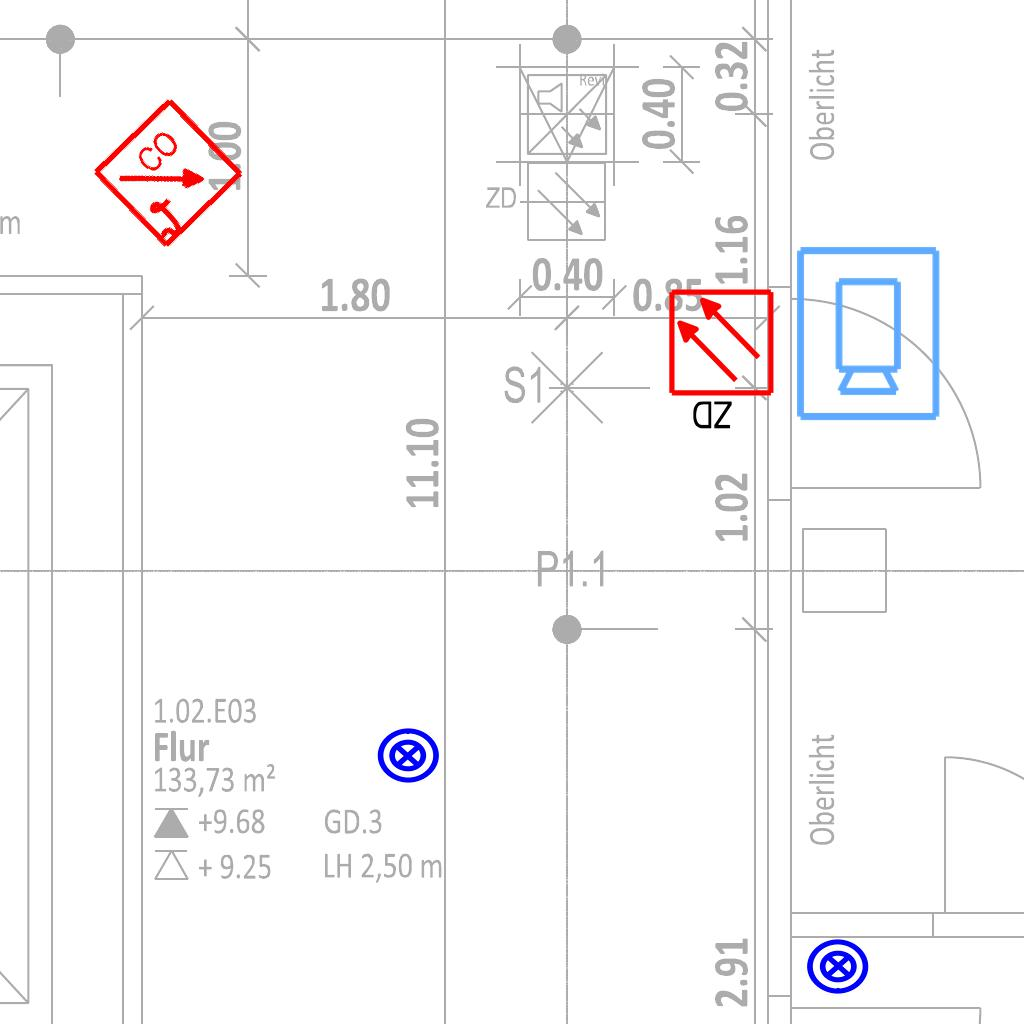KFO_Kamera_mit_Festobjektiv: (790, 242, 944, 424)
ROA_Rauchmelder_optisch_mit_Signalgeber_(Sockelsirene): (89, 93, 250, 254)
Taster_beleuchtet: (375, 723, 441, 789), (805, 933, 871, 999)
ZD_Melder_in_Zwischendecke_mit_Revisionsoeffnung_mind_40_x_40_cm: (666, 287, 780, 436)
